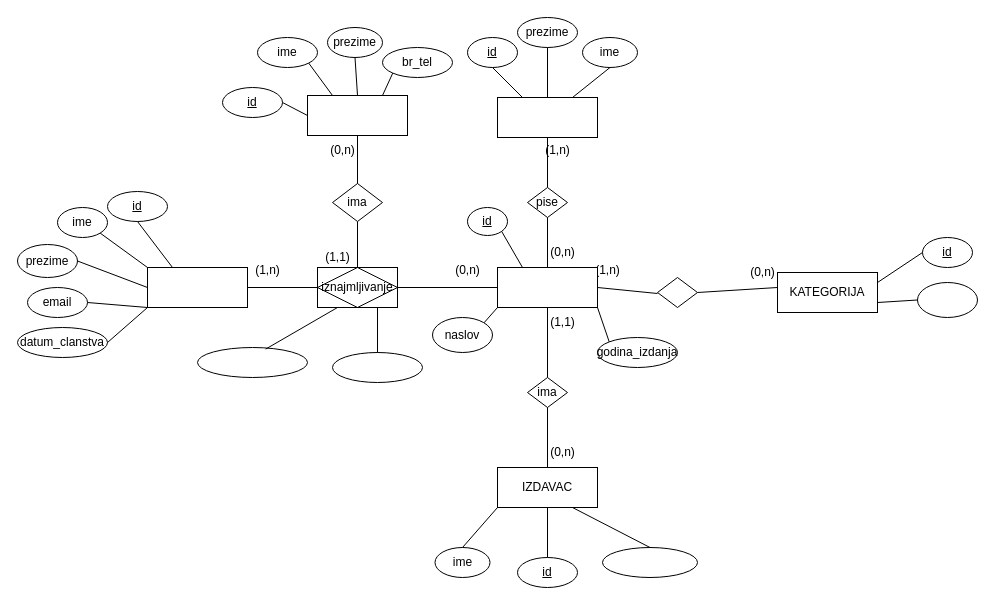
The diagram is 995 pixels wide and 605 high, and some of its shapes have lost their labels. Here are the shapes that lost their labels. From the top down, the box of each, then its label:
(306, 94, 408, 136): ZAPOSLENI
(496, 96, 598, 138): AUTOR
(146, 266, 248, 308): CLAN
(496, 266, 598, 308): KNJIGA
(656, 276, 698, 308): pripada
(916, 282, 978, 318): naziv
(196, 346, 308, 378): datum_izmajmljivanja
(332, 352, 422, 382): datum_vracanja
(602, 546, 698, 578): zemlja_porijekla
